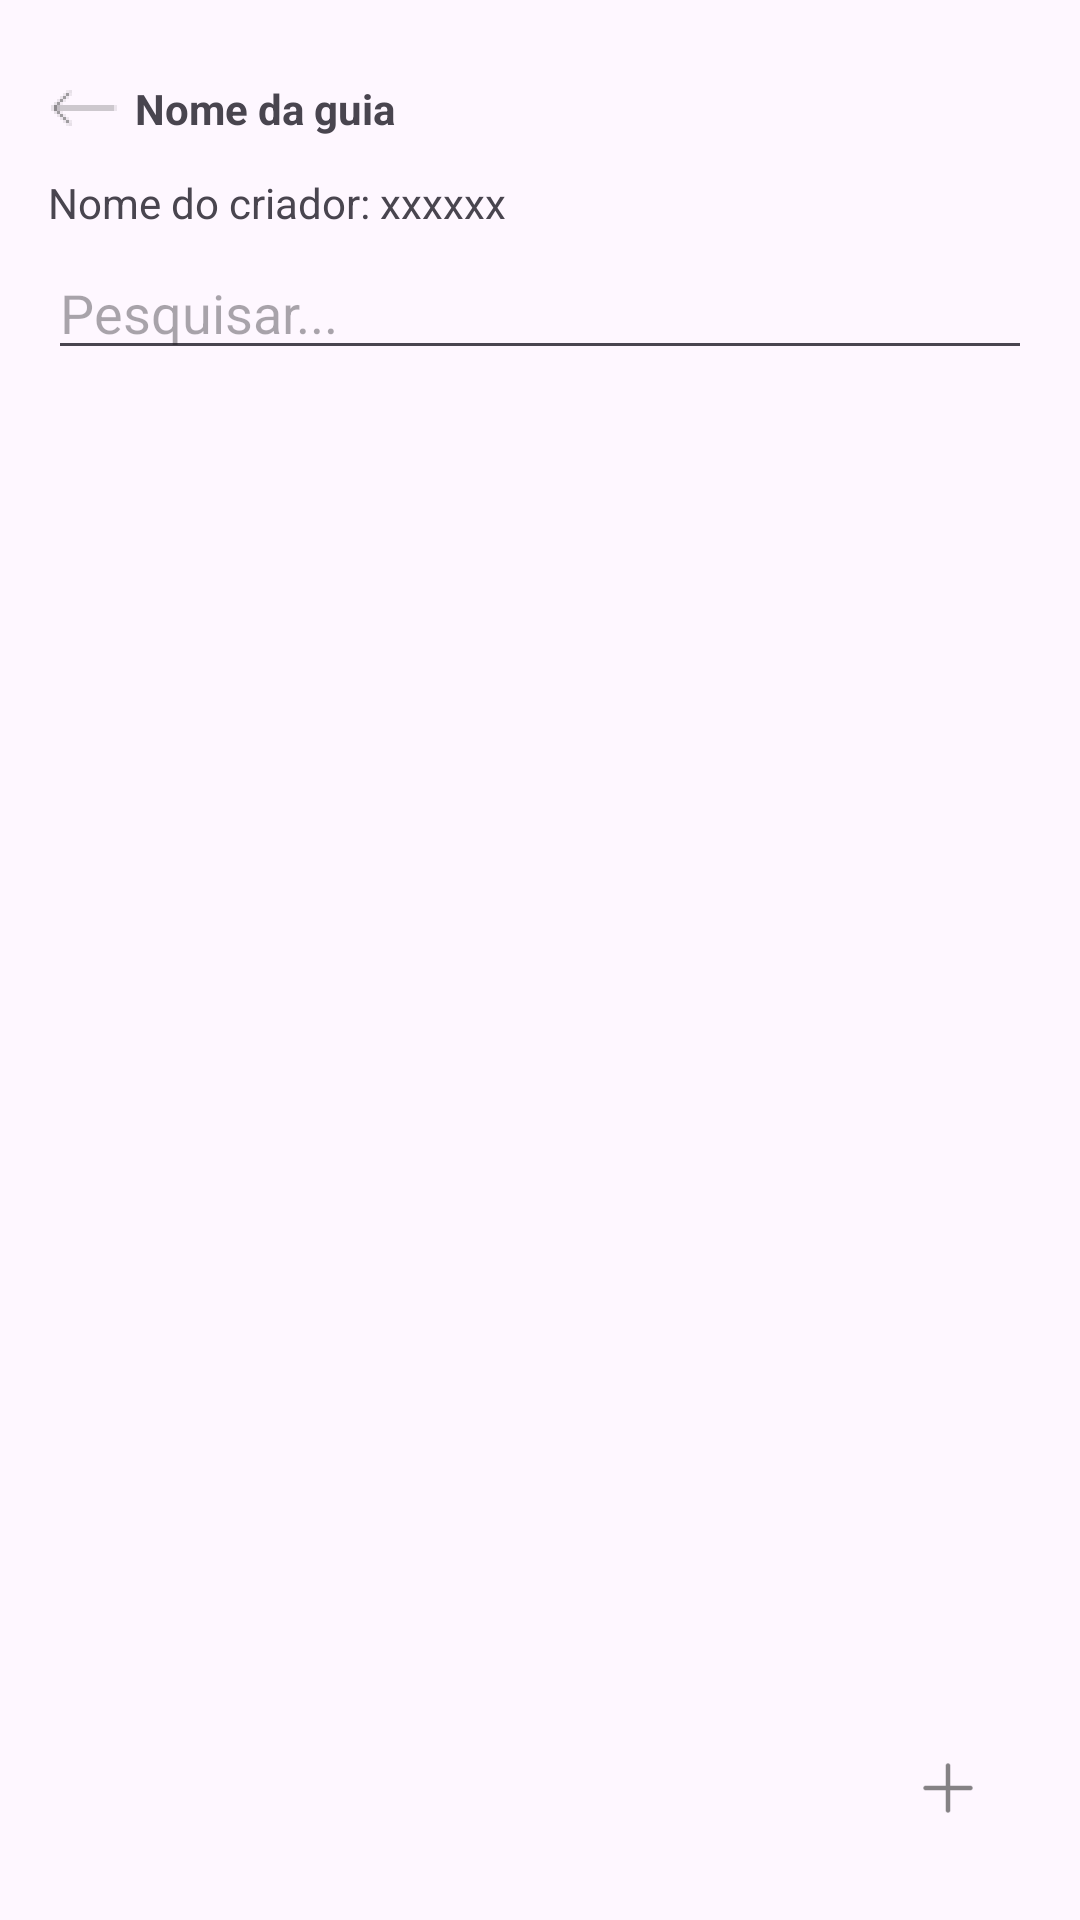

Named icons in this screenshot (1080w x 1920h) and their bounding boxes, box=[x1, y1, x2, y2]:
mais: box=[923, 1763, 973, 1813]
voltar: box=[54, 93, 114, 123]
